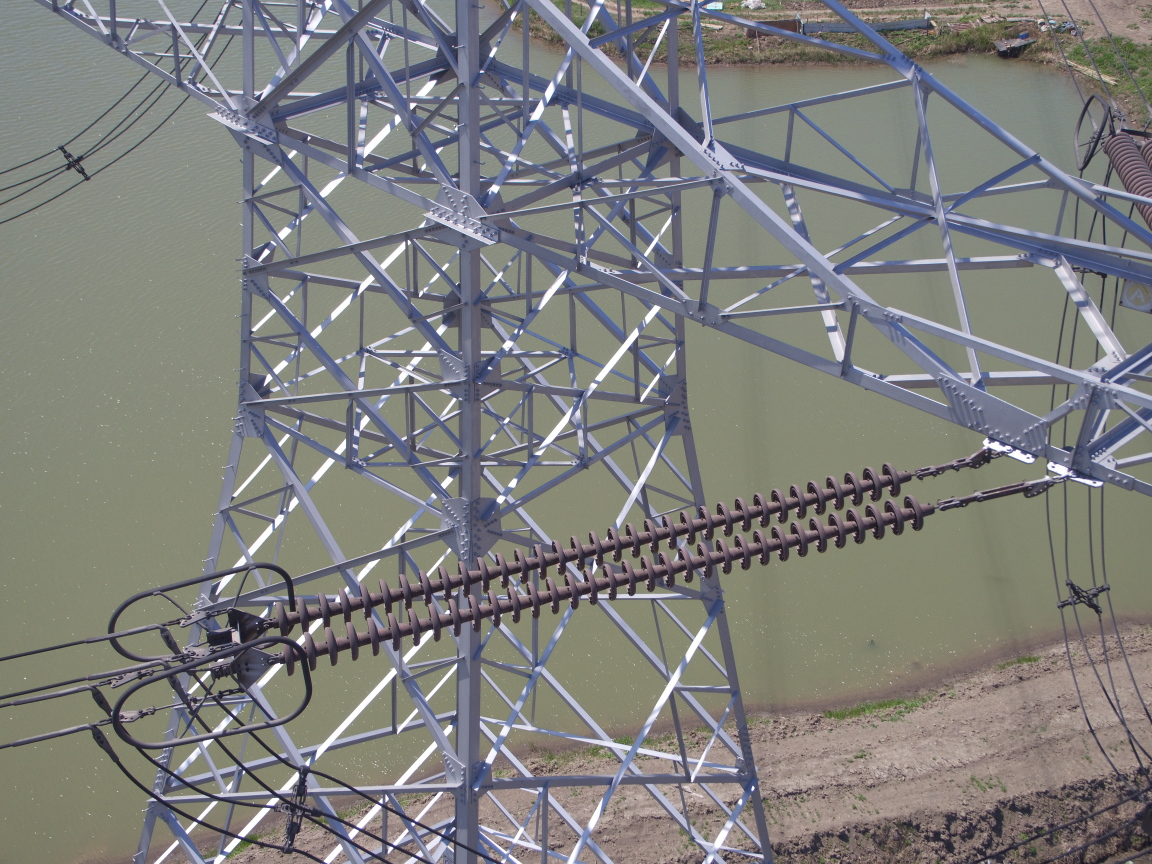insulator: (259, 459, 963, 681)
